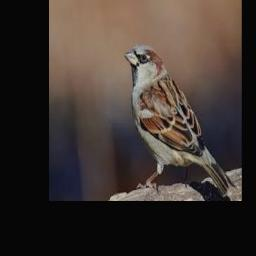Sparrow: (125, 44, 229, 198)
